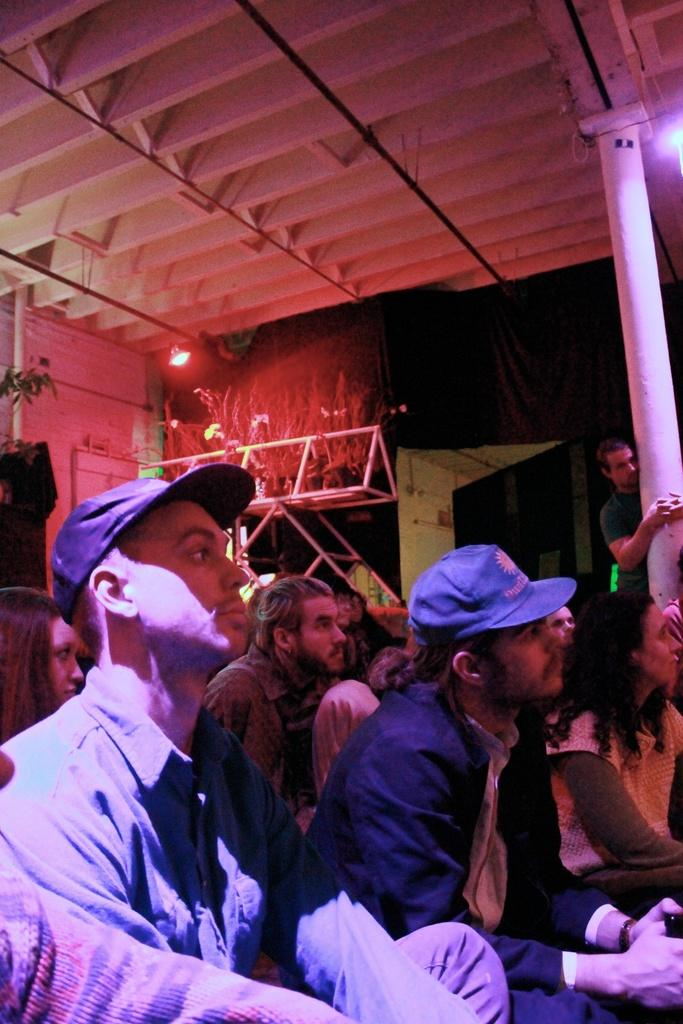Hat: (48, 462, 256, 622), (403, 540, 580, 652)
